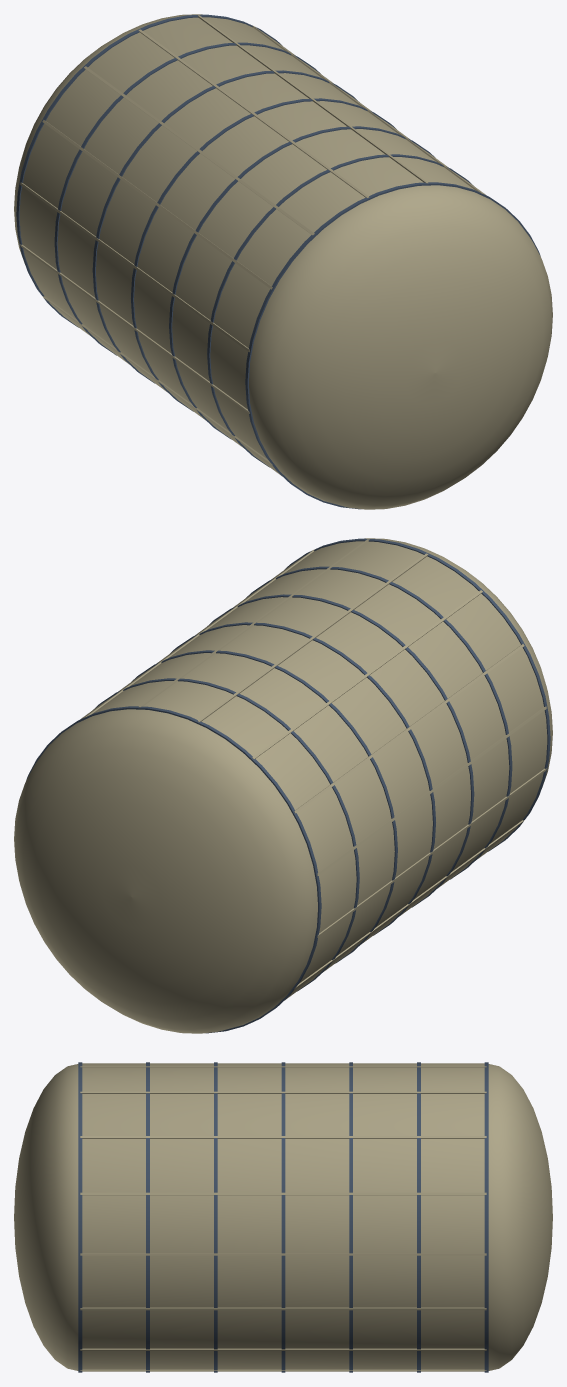
Rendered from kc1000_insulation.obj.
The picture shows the model from 3 angles, top to bottom: view 1: azimuth 30°, elevation 25°; view 2: azimuth 150°, elevation 25°; view 3: azimuth 270°, elevation 25°; orthographic projection. The views are drawn at different scales.
Parts seen in each view (by area): view 1: kc1000_insulation; view 2: kc1000_insulation; view 3: kc1000_insulation.
Boxes of the visible parts, x1,y1,x2,y2 form: kc1000_insulation: (14,14,552,509); kc1000_insulation: (14,538,552,1033); kc1000_insulation: (14,1062,552,1372).
Size of the model in its own units: 7.95 by 7.95 by 13.8.
